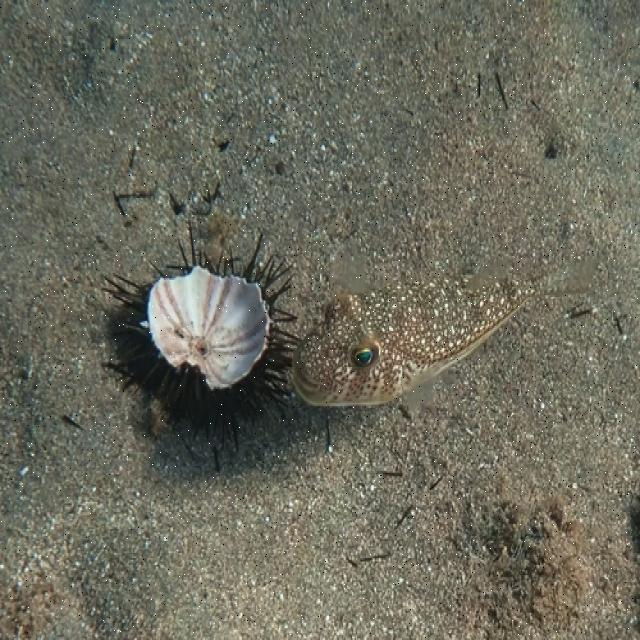Balik: (294, 263, 595, 406)
